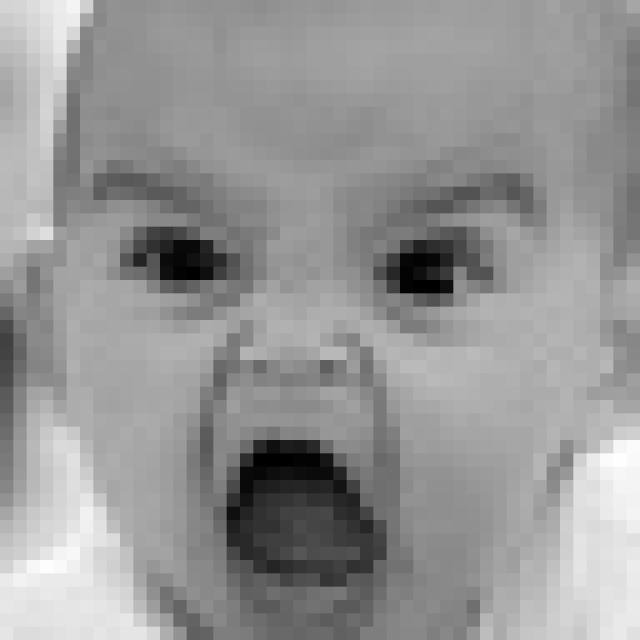angry: (74, 165, 552, 624)
